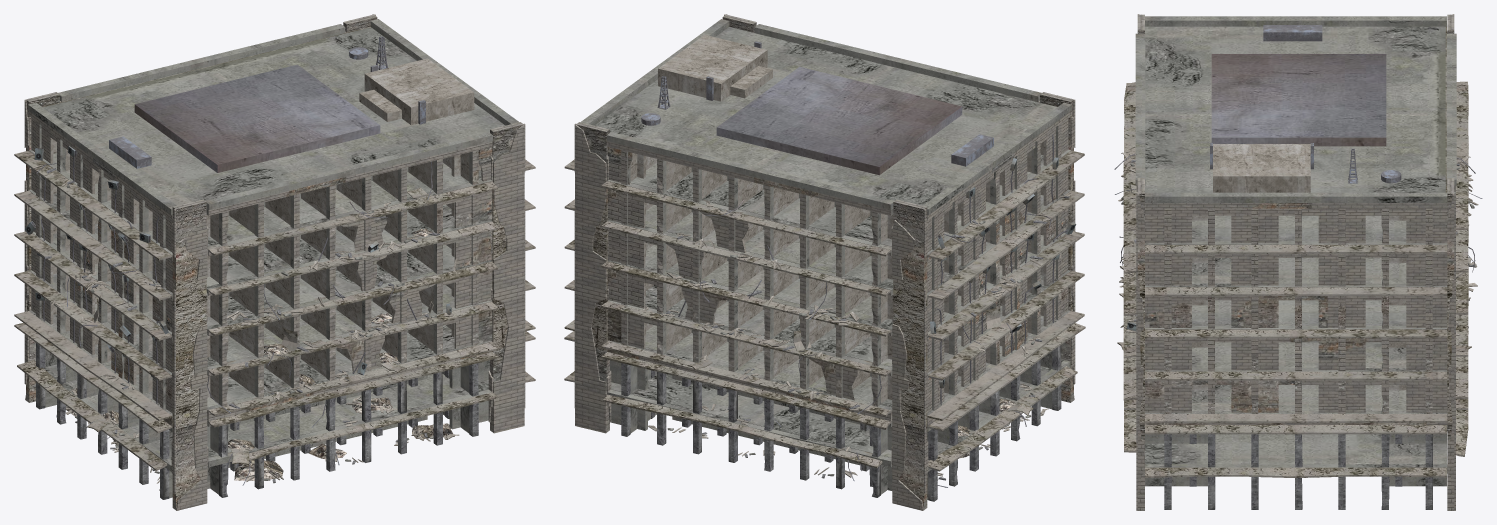
Rendered from destroyed_building-web.glb.
3 renders of one model, left to right at view 1: azimuth 30°, elevation 25°; view 2: azimuth 150°, elevation 25°; view 3: azimuth 270°, elevation 25°, orthographic. The views are drawn at different scales.
Visible parts, largest first — view 1: destroyed_building_Cube.006, roof_stuff_Cube.002, right_debris_Cube.070, front_debris_Cube.004; view 2: destroyed_building_Cube.006, roof_stuff_Cube.002, front_debris_Cube.004, left_debris_Cube.110; view 3: destroyed_building_Cube.006, roof_stuff_Cube.002, right_debris_Cube.070, left_debris_Cube.110.
Part boxes in pixels (box(x1,y1,x2,y2)): destroyed_building_Cube.006: box(14, 14, 535, 510); roof_stuff_Cube.002: box(109, 36, 474, 172); right_debris_Cube.070: box(207, 161, 459, 485); front_debris_Cube.004: box(24, 145, 168, 490); destroyed_building_Cube.006: box(564, 14, 1085, 510); roof_stuff_Cube.002: box(641, 34, 993, 175); front_debris_Cube.004: box(930, 134, 1076, 487); left_debris_Cube.110: box(642, 199, 881, 481); destroyed_building_Cube.006: box(1123, 14, 1468, 510); roof_stuff_Cube.002: box(1210, 25, 1401, 192); right_debris_Cube.070: box(1114, 151, 1137, 350); left_debris_Cube.110: box(1447, 155, 1482, 349).
Size of the model in its own units: 29.06 by 23.31 by 22.83.
Materials: 2 (2 with a texture image).
